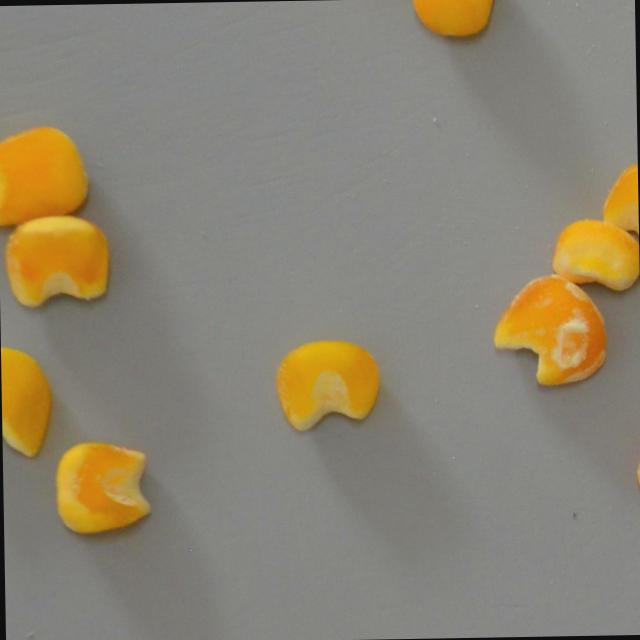no_canjicado: (277, 335, 381, 431), (6, 213, 110, 308), (0, 124, 89, 228), (56, 440, 152, 533), (551, 218, 640, 291), (0, 341, 53, 457), (601, 161, 639, 264), (412, 0, 498, 41)
pelicula: (491, 274, 608, 388)
